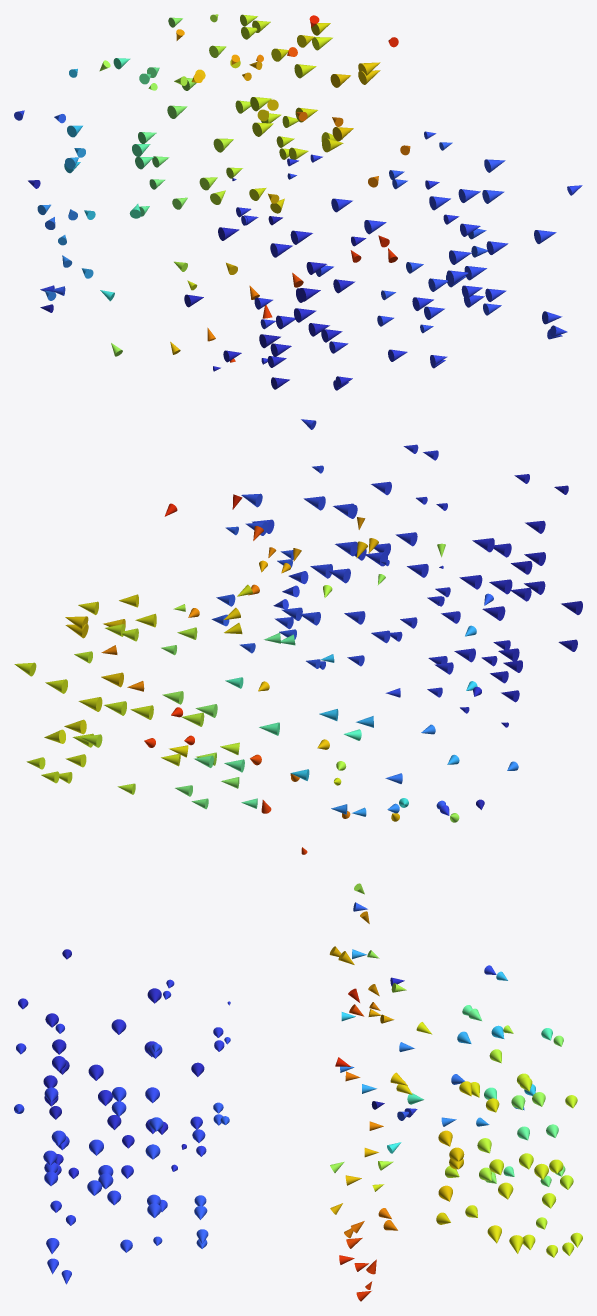
File: LineasCorrienteN2-H2O_mh2-2.70_V-0.9.glb
The picture shows the model from 3 angles, top to bottom: view 1: azimuth 30°, elevation 25°; view 2: azimuth 150°, elevation 25°; view 3: azimuth 270°, elevation 25°; orthographic projection.
Bounding box in the file's own units: 0.000967 × 0.000816 × 0.0012.
Materials: 2 (2 with a texture image).
